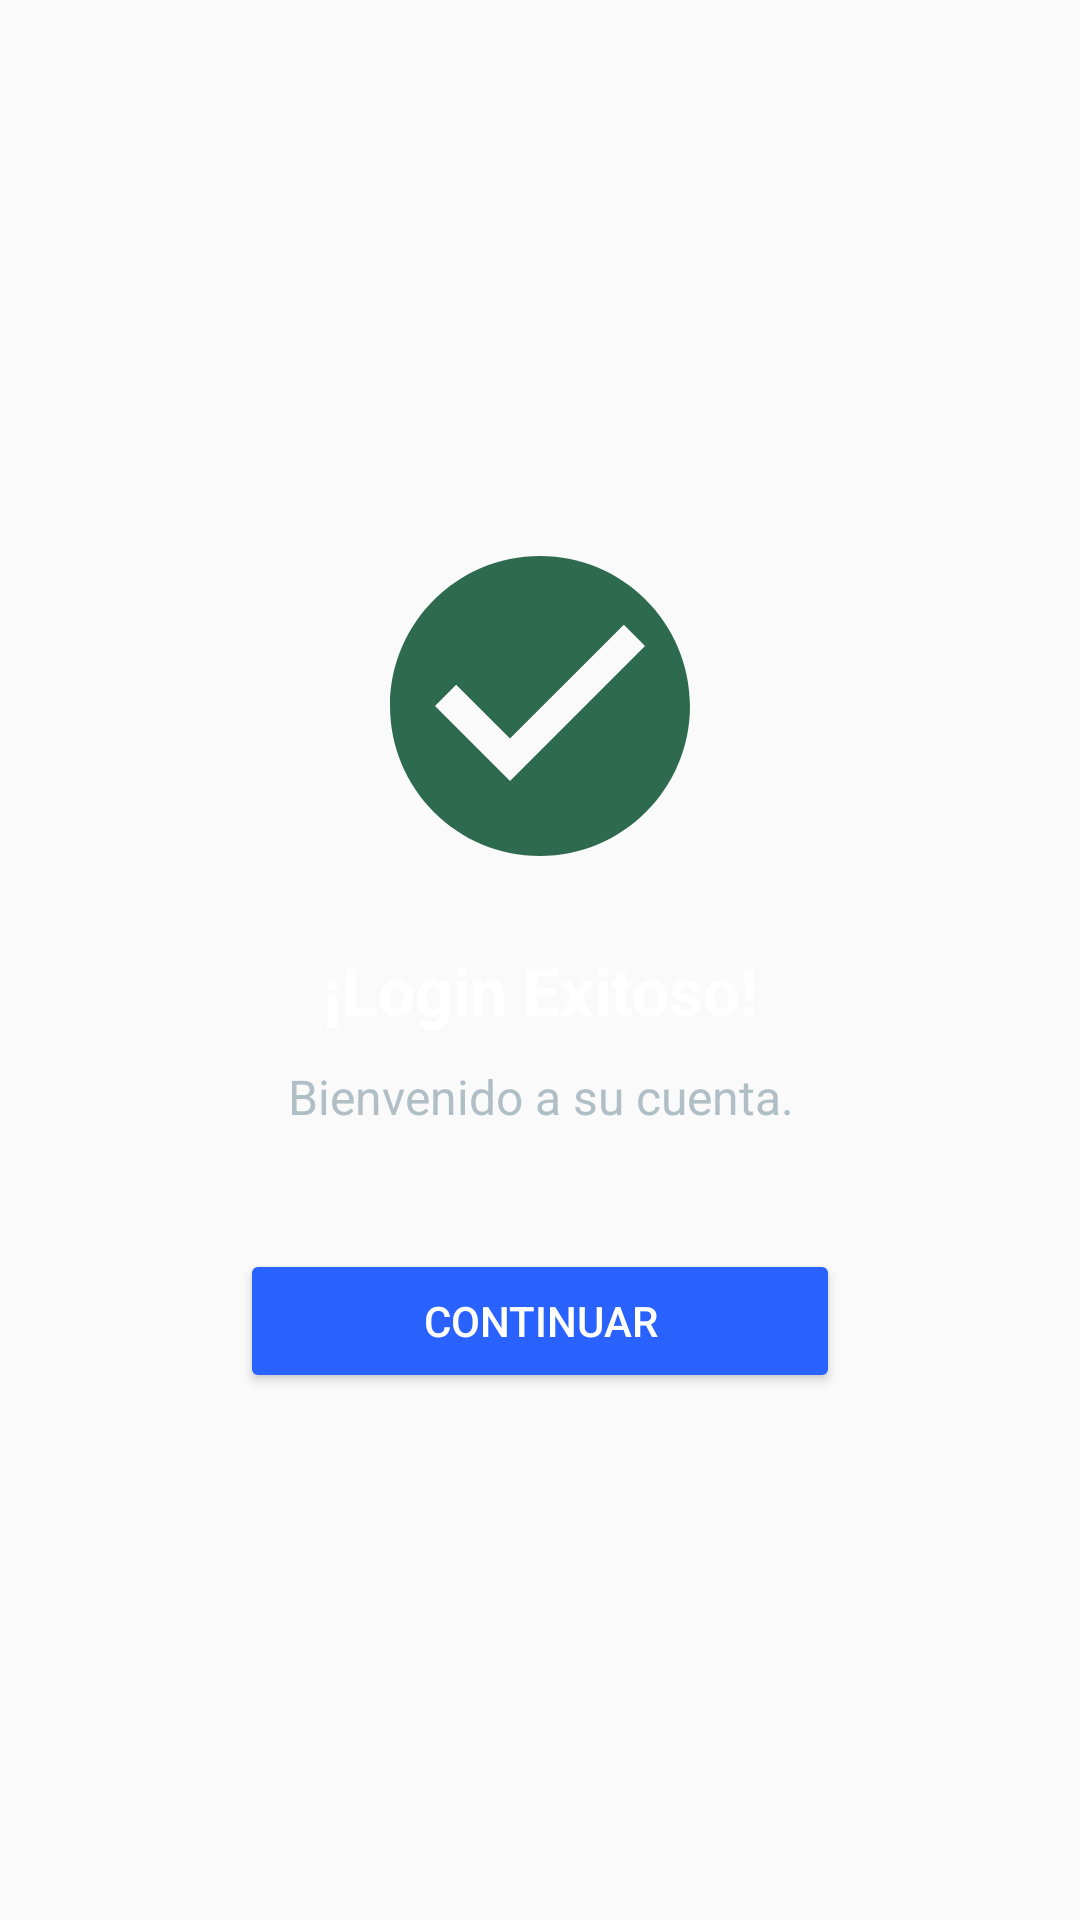

Icons on this 1080w x 1920h Android screen, each with its box as Rect(x1, y1, x2, y2):
Success Icon: Rect(390, 556, 690, 856)
